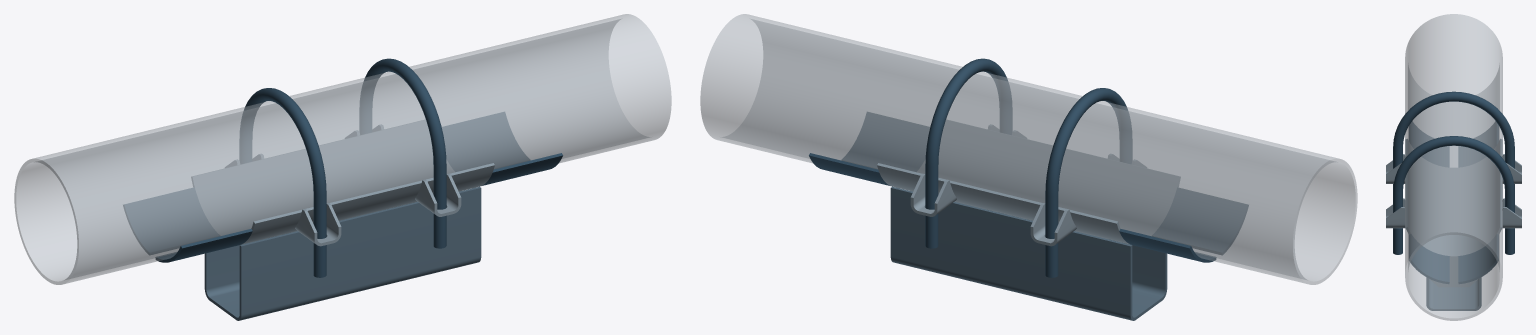
Rendered from TS-670.00.00-15-opora-dn159-H100.glb.
3 renders of one model, left to right at view 1: azimuth 30°, elevation 25°; view 2: azimuth 150°, elevation 25°; view 3: azimuth 270°, elevation 25°, orthographic. The views are drawn at different scales.
Parts seen in each view (by area): view 1: truba, skoba_1, podushka_0, upor_-1_1, homut_1, homut_-1, upor_1_1, upor_-1_-1, upor_1_-1, ushko_5, ushko_7; view 2: truba, skoba_1, podushka_0, upor_-1_-1, homut_1, homut_-1, upor_1_-1, upor_-1_1, upor_1_1, ushko_4, ushko_6; view 3: truba, podushka_0, homut_1, homut_-1, skoba_1, upor_1_1, upor_1_-1, upor_-1_1, upor_-1_-1, rebro_3, ushko_4, ushko_5 (+2 smaller).
Part boxes in pixels (box(x1,y1,x2,y2)): truba: box(14, 14, 671, 284); skoba_1: box(204, 186, 481, 320); podushka_0: box(191, 120, 494, 244); upor_-1_1: box(123, 188, 219, 254); homut_1: box(359, 58, 446, 248); homut_-1: box(239, 88, 326, 277); upor_1_1: box(442, 112, 529, 171); upor_-1_-1: box(155, 229, 252, 262); upor_1_-1: box(482, 153, 562, 185); ushko_5: box(415, 173, 461, 216); ushko_7: box(295, 203, 341, 246); truba: box(700, 14, 1357, 284); skoba_1: box(890, 186, 1167, 320); podushka_0: box(877, 120, 1180, 244); upor_-1_-1: box(1152, 188, 1248, 254); homut_1: box(925, 58, 1012, 248); homut_-1: box(1045, 88, 1132, 277); upor_1_-1: box(842, 112, 929, 171); upor_-1_1: box(1119, 229, 1216, 262); upor_1_1: box(809, 153, 889, 185); ushko_4: box(910, 173, 956, 216); ushko_6: box(1030, 203, 1076, 246); truba: box(1405, 14, 1502, 320); podushka_0: box(1405, 139, 1502, 258); homut_1: box(1393, 136, 1514, 254); homut_-1: box(1393, 91, 1514, 190); skoba_1: box(1426, 277, 1481, 310); upor_1_1: box(1458, 234, 1498, 283); upor_1_-1: box(1409, 234, 1449, 283); upor_-1_1: box(1458, 121, 1498, 167); upor_-1_-1: box(1409, 121, 1449, 167); rebro_3: box(1430, 258, 1477, 287); ushko_4: box(1502, 198, 1521, 228); ushko_5: box(1386, 198, 1405, 228).
Bounding box in the file's own units: 840 × 274 × 221.
